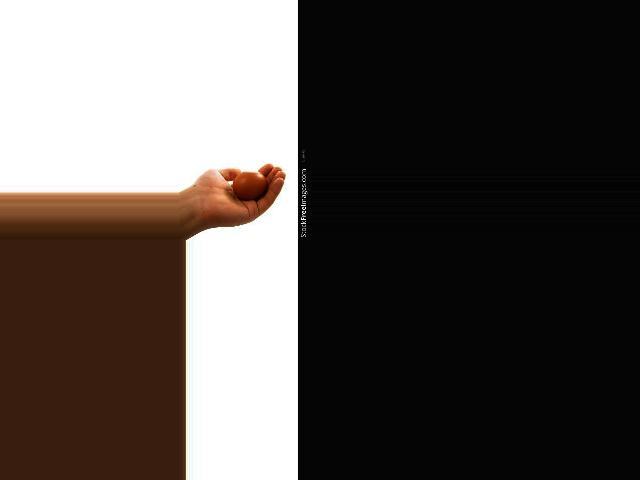egg: (232, 171, 269, 199)
